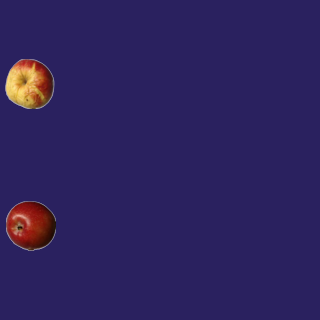Apple Braeburn: (5, 200, 55, 250)
Apple Red Yellow 1: (4, 58, 54, 108)
